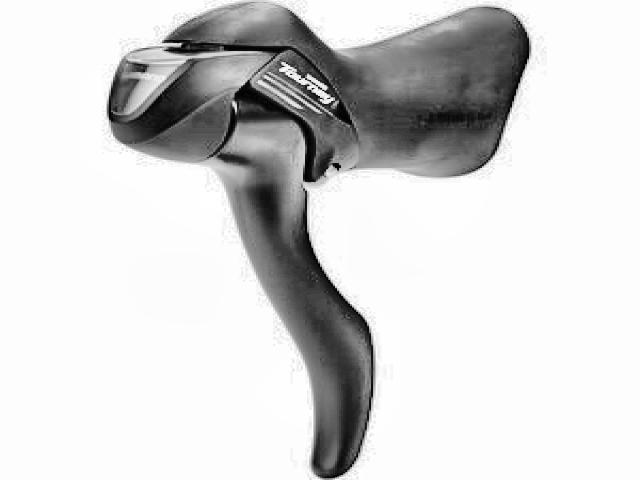sti_shifter: (109, 1, 498, 478)
